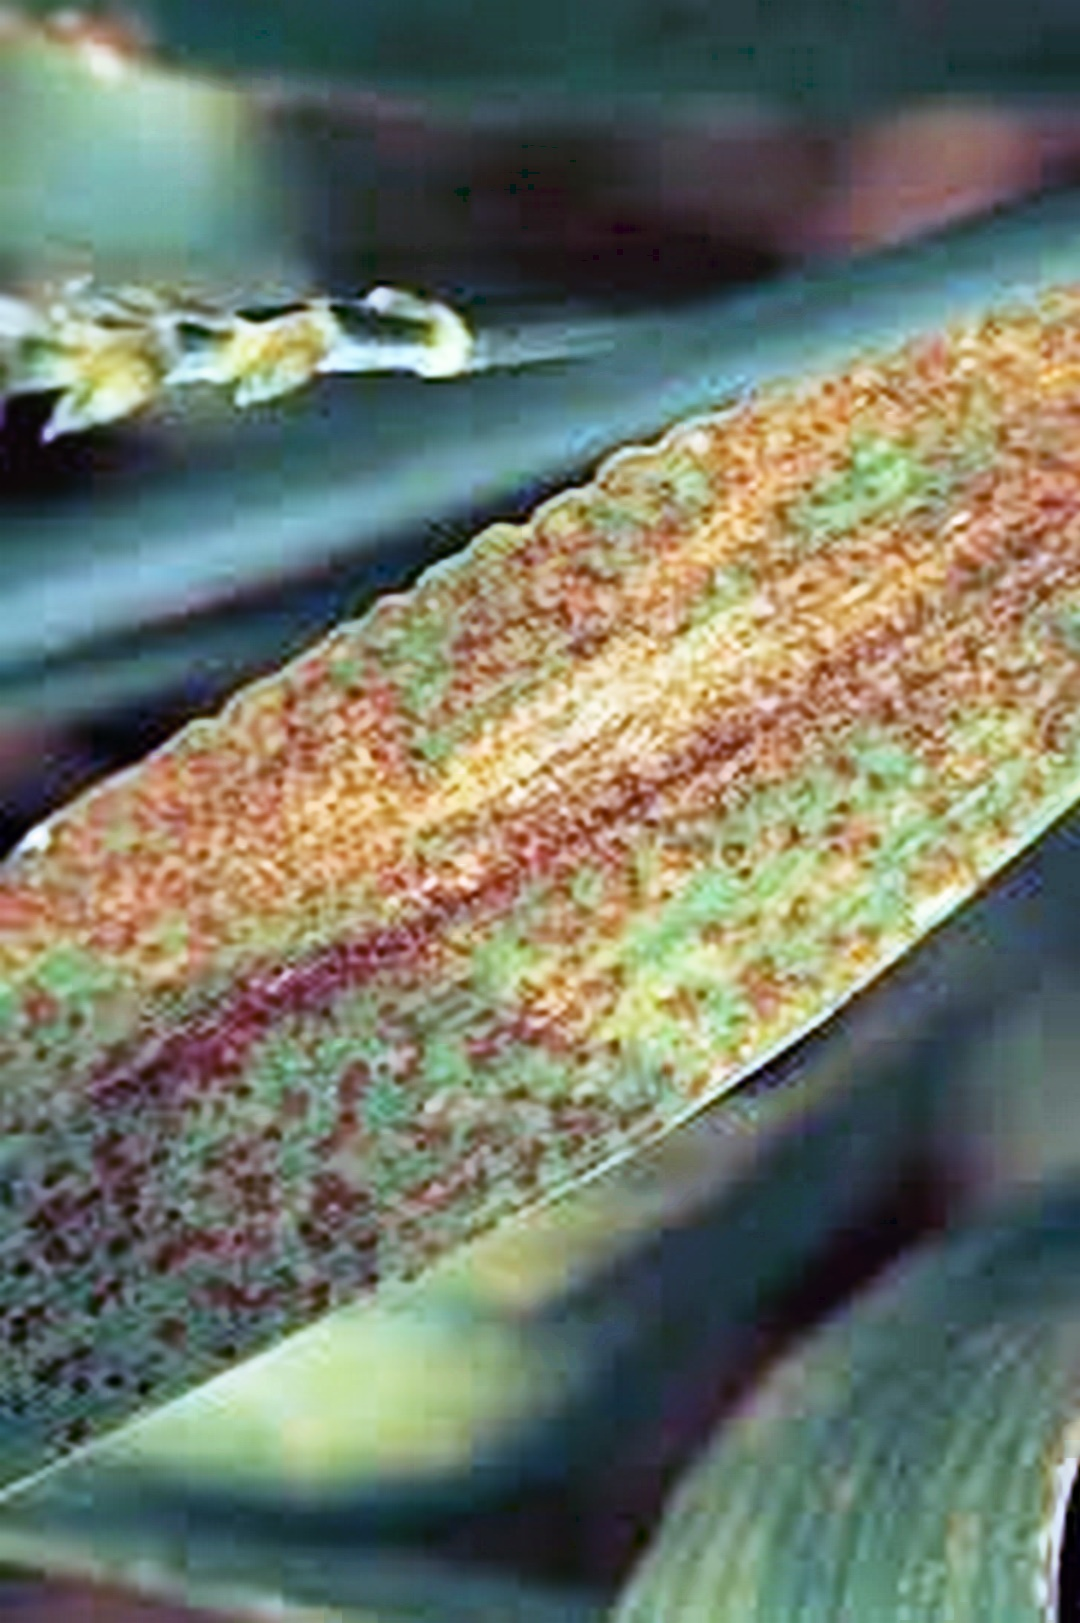Leaf Rust: (90, 369, 1053, 1286)
